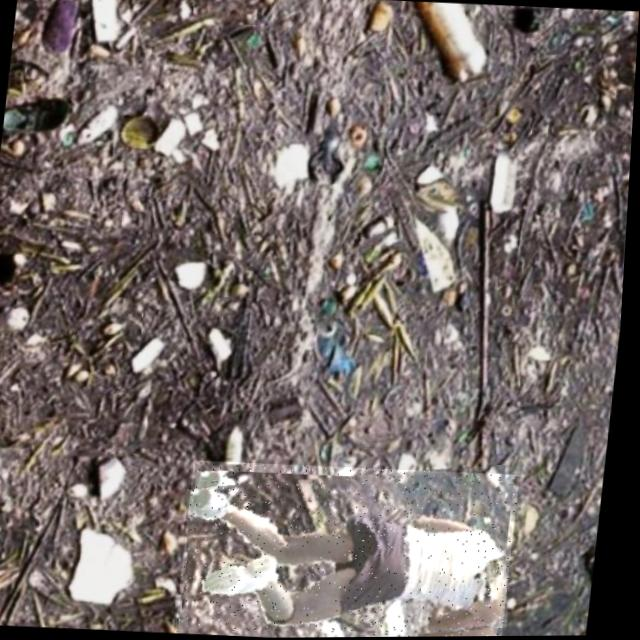Person in Rubble: (181, 459, 525, 639)
